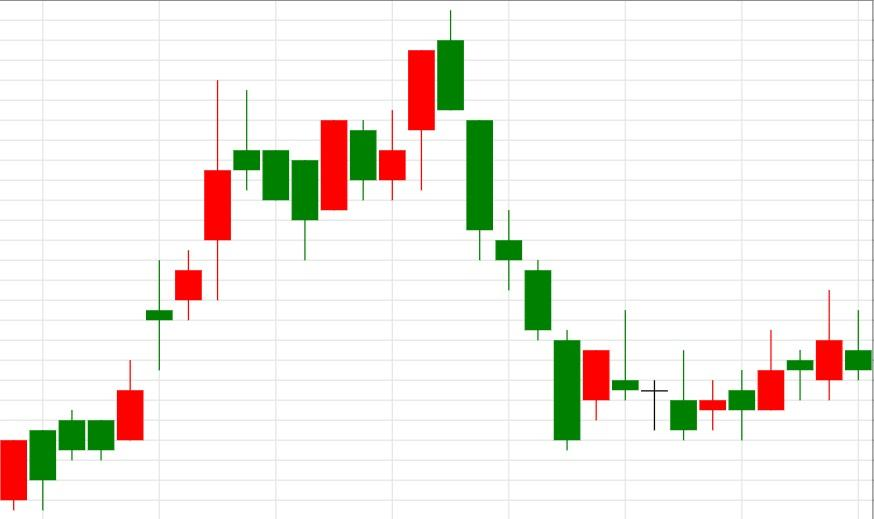three_black_crows_fall: (291, 10, 523, 291)
